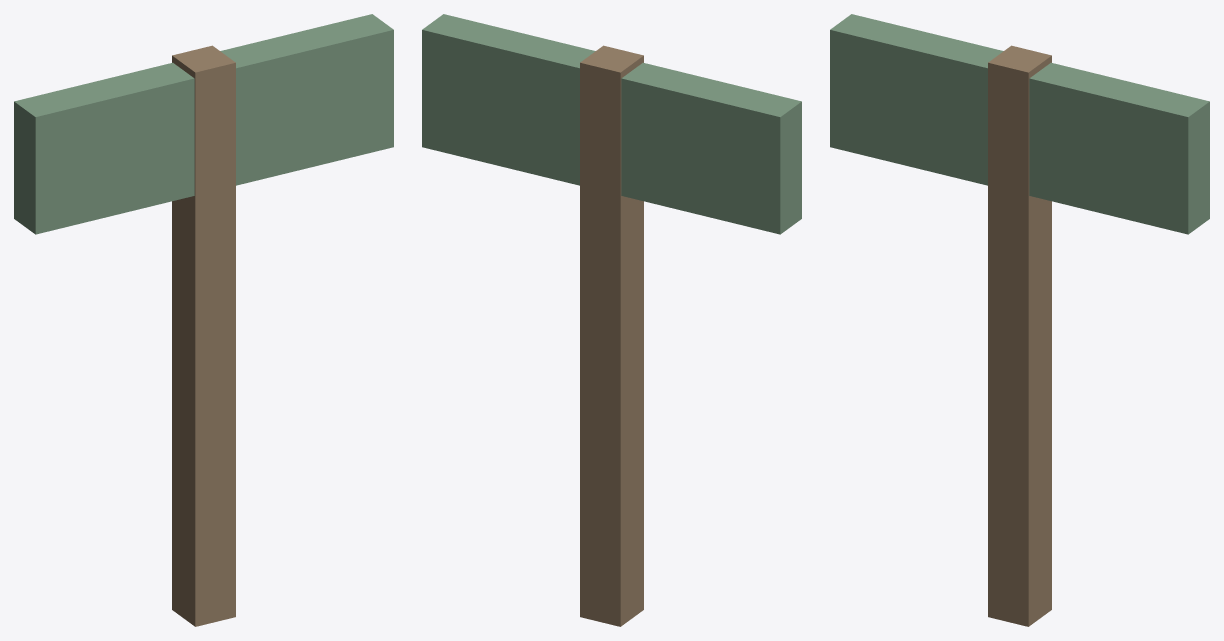
3 renders of one model, left to right at view 1: azimuth 30°, elevation 25°; view 2: azimuth 150°, elevation 25°; view 3: azimuth 330°, elevation 25°, orthographic.
Size of the model in its own units: 1.15 by 1.7 by 0.135.
